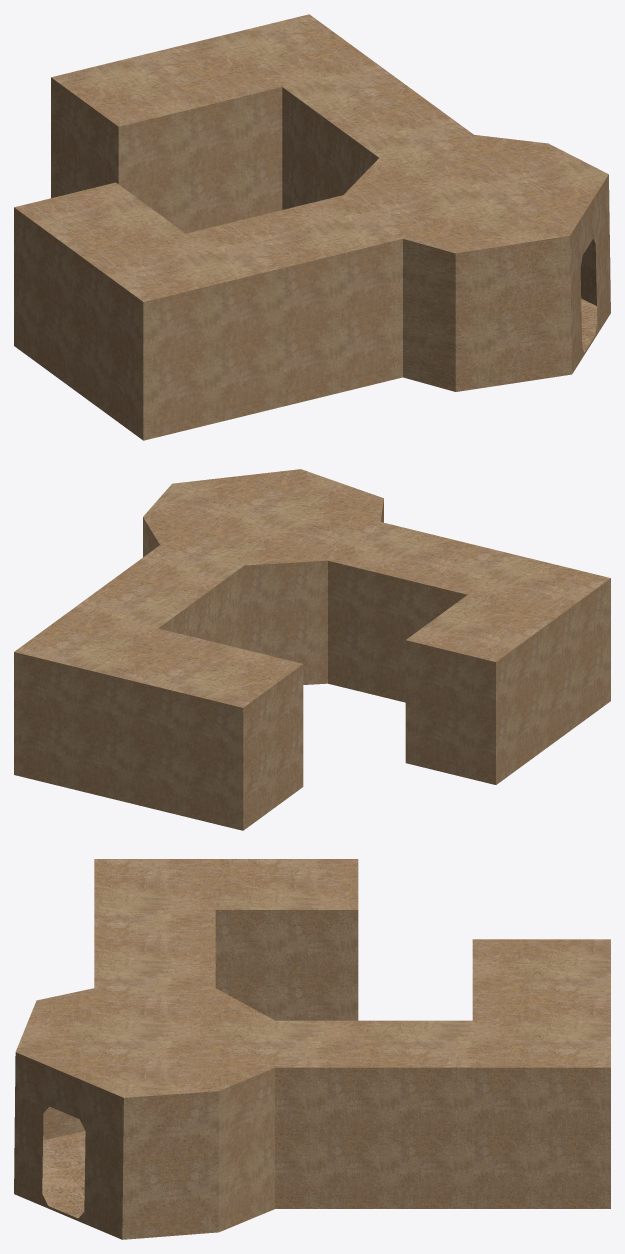
Rendered from thm_tato_imprv_building_s04_r1_foyer_mesh_l0.fbx.
The picture shows the model from 3 angles, top to bottom: view 1: azimuth 30°, elevation 25°; view 2: azimuth 150°, elevation 25°; view 3: azimuth 270°, elevation 25°; orthographic projection. The views are drawn at different scales.
Parts seen in each view (by area): view 1: mesh_node; view 2: mesh_node; view 3: mesh_node.
Boxes of the visible parts, <box> form: mesh_node: <box>14,14,610,440</box>; mesh_node: <box>14,469,610,830</box>; mesh_node: <box>14,859,610,1239</box>.
Bounding box in the file's own units: 16.3 × 4.49 × 17.17.
